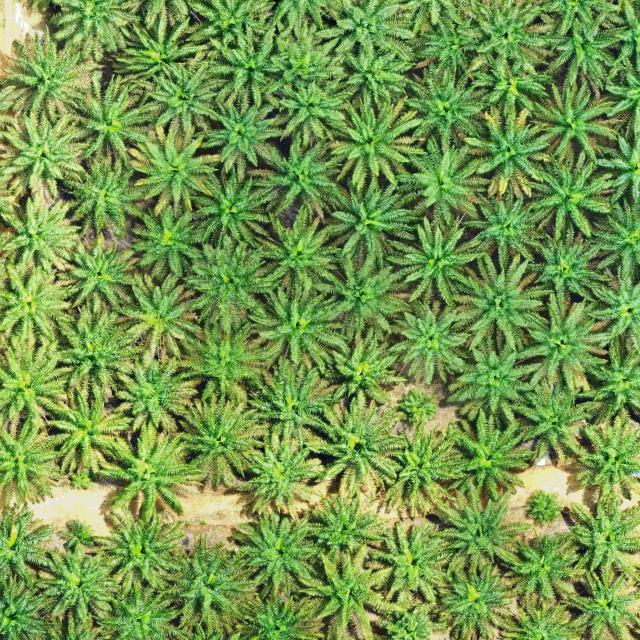Tree: (302, 391, 413, 502), (151, 530, 260, 640), (177, 229, 282, 331), (446, 252, 546, 358), (308, 174, 414, 272), (426, 481, 536, 575), (104, 424, 205, 524), (309, 252, 415, 346), (245, 278, 352, 370), (324, 96, 426, 192), (371, 419, 467, 520), (56, 75, 153, 174), (504, 374, 608, 466), (528, 0, 636, 88), (50, 304, 144, 405), (167, 395, 265, 491), (514, 298, 608, 397), (393, 132, 492, 225), (386, 215, 485, 308), (125, 124, 219, 221), (460, 104, 552, 201), (0, 32, 100, 120), (525, 77, 623, 165), (94, 505, 188, 595), (228, 428, 326, 514), (395, 57, 486, 149), (111, 272, 202, 363), (240, 357, 338, 441), (366, 516, 455, 608), (231, 508, 323, 597), (0, 110, 89, 202), (449, 185, 550, 266), (518, 219, 614, 304), (111, 6, 201, 95), (202, 27, 296, 112), (0, 329, 76, 433), (428, 560, 526, 640), (252, 210, 340, 299), (518, 153, 608, 240), (178, 322, 270, 407), (44, 386, 129, 476), (559, 492, 640, 586), (192, 92, 281, 176), (0, 412, 75, 511), (110, 354, 198, 438), (296, 550, 378, 640), (382, 302, 469, 386), (0, 260, 82, 349), (447, 346, 536, 428), (495, 527, 589, 604), (33, 547, 119, 631), (560, 414, 640, 503), (308, 0, 420, 63), (460, 0, 550, 78), (446, 416, 535, 494), (23, 0, 146, 56), (142, 62, 231, 139), (62, 157, 144, 240), (301, 488, 395, 560), (265, 18, 352, 94), (54, 234, 136, 314), (251, 136, 331, 218), (0, 196, 78, 280), (321, 329, 406, 406), (266, 76, 351, 150), (192, 169, 270, 249), (564, 561, 640, 640), (468, 53, 554, 120), (128, 205, 202, 280), (0, 499, 56, 598), (96, 583, 191, 640), (574, 347, 640, 428), (586, 264, 640, 356), (411, 13, 485, 80), (338, 41, 402, 105), (589, 201, 640, 281), (398, 388, 438, 428)
